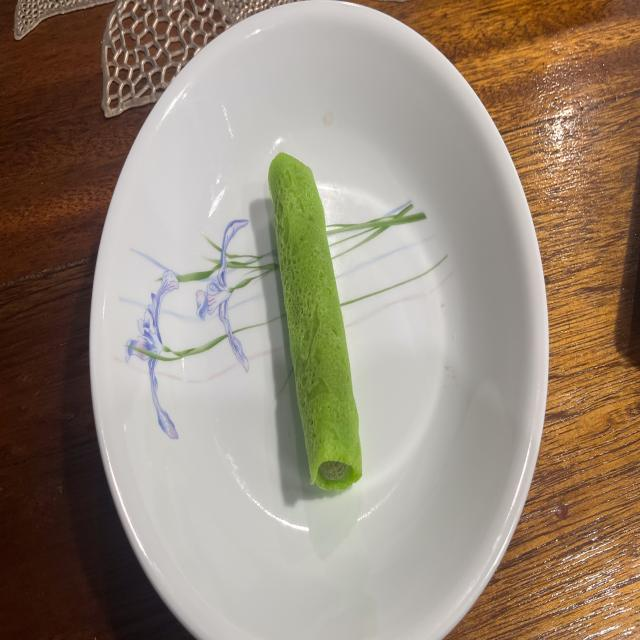Kuih-Ketayap: (269, 153, 361, 491)
